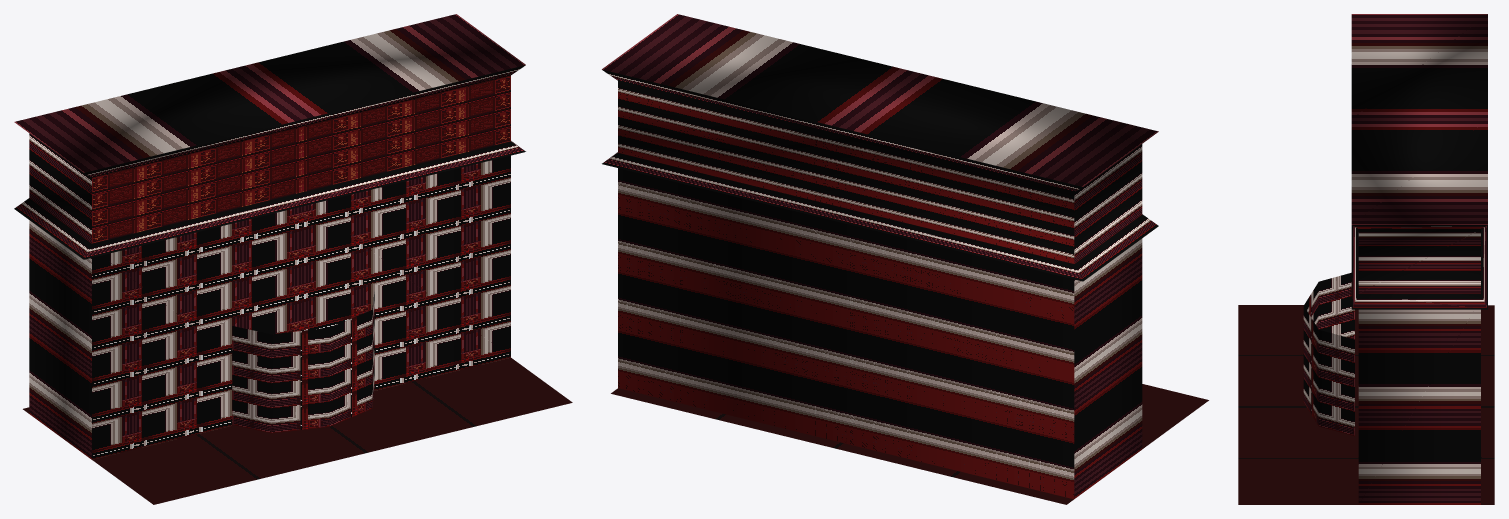
The model's file is 3049IMRL02_10.gltf.
3 views of the same model, side by side, from view 1: azimuth 30°, elevation 25°; view 2: azimuth 150°, elevation 25°; view 3: azimuth 270°, elevation 25° (orthographic). The views are drawn at different scales.
Parts seen in each view (by area): view 1: 3049IMRL02_10; view 2: 3049IMRL02_10; view 3: 3049IMRL02_10.
Part boxes in pixels (left/top/right/bottom): 3049IMRL02_10: left=14, top=14, right=572, bottom=504; 3049IMRL02_10: left=602, top=14, right=1208, bottom=504; 3049IMRL02_10: left=1238, top=14, right=1494, bottom=504.
Bounding box in the file's own units: 1.84 × 1.16 × 0.9478.
3 materials, 3 textured.
